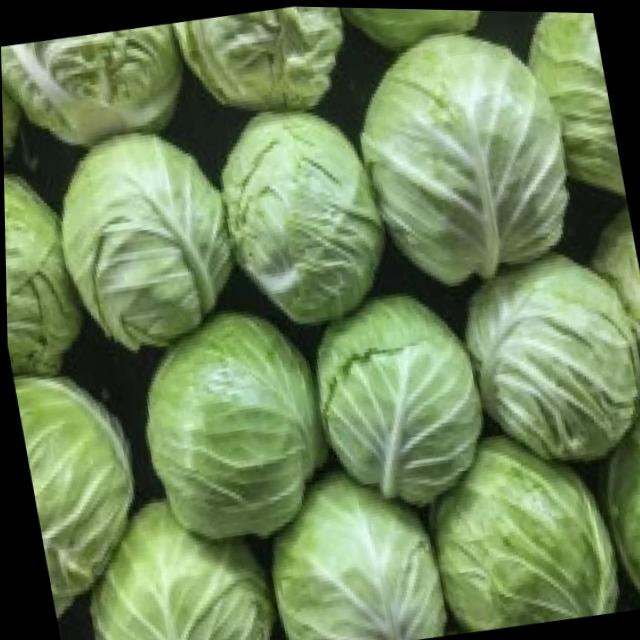Cabbage: (340, 17, 586, 289), (127, 324, 344, 553), (207, 95, 397, 333), (416, 418, 624, 634), (447, 239, 640, 468), (311, 293, 496, 518), (11, 361, 156, 617), (254, 457, 451, 640), (59, 155, 241, 346), (71, 498, 283, 640), (0, 20, 191, 161), (171, 3, 359, 128), (516, 9, 623, 211), (3, 162, 93, 380), (583, 391, 640, 605), (342, 6, 507, 59)
